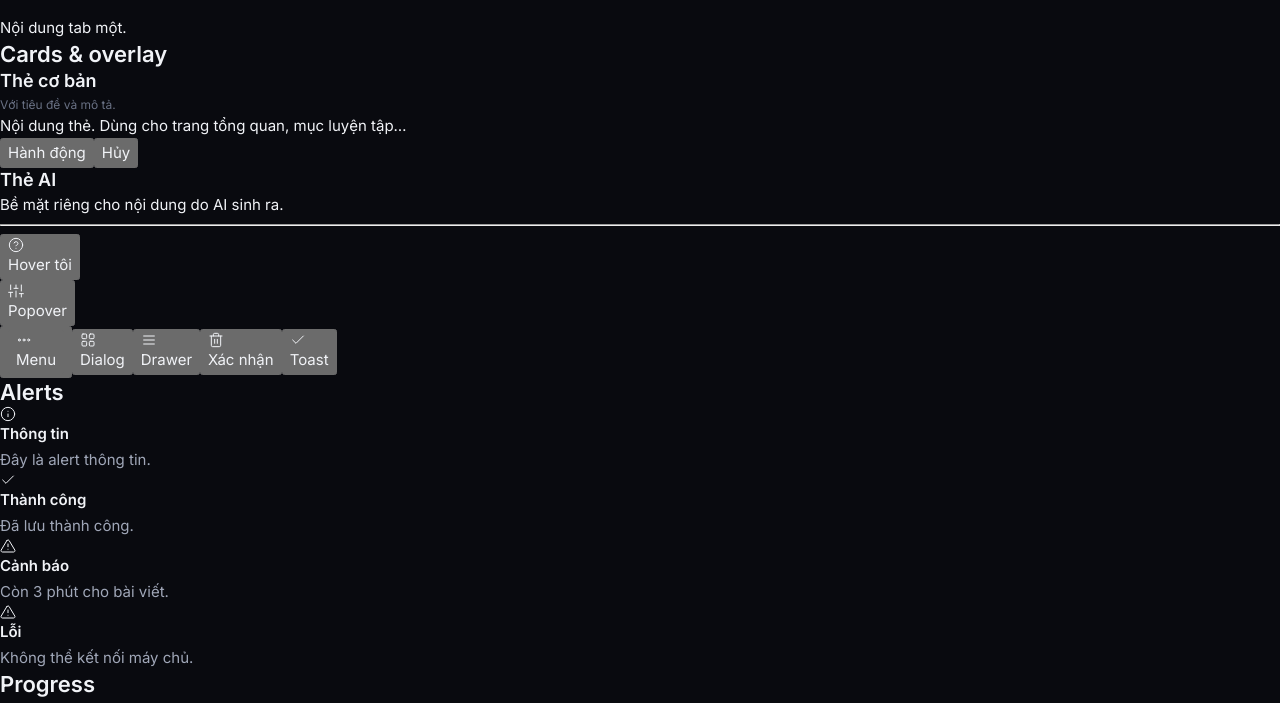
DesignSystemPage › opens and closes the sample dialog
(page scrolled)
Click the button "Dialog" at (102, 352), box [72, 329, 133, 375]
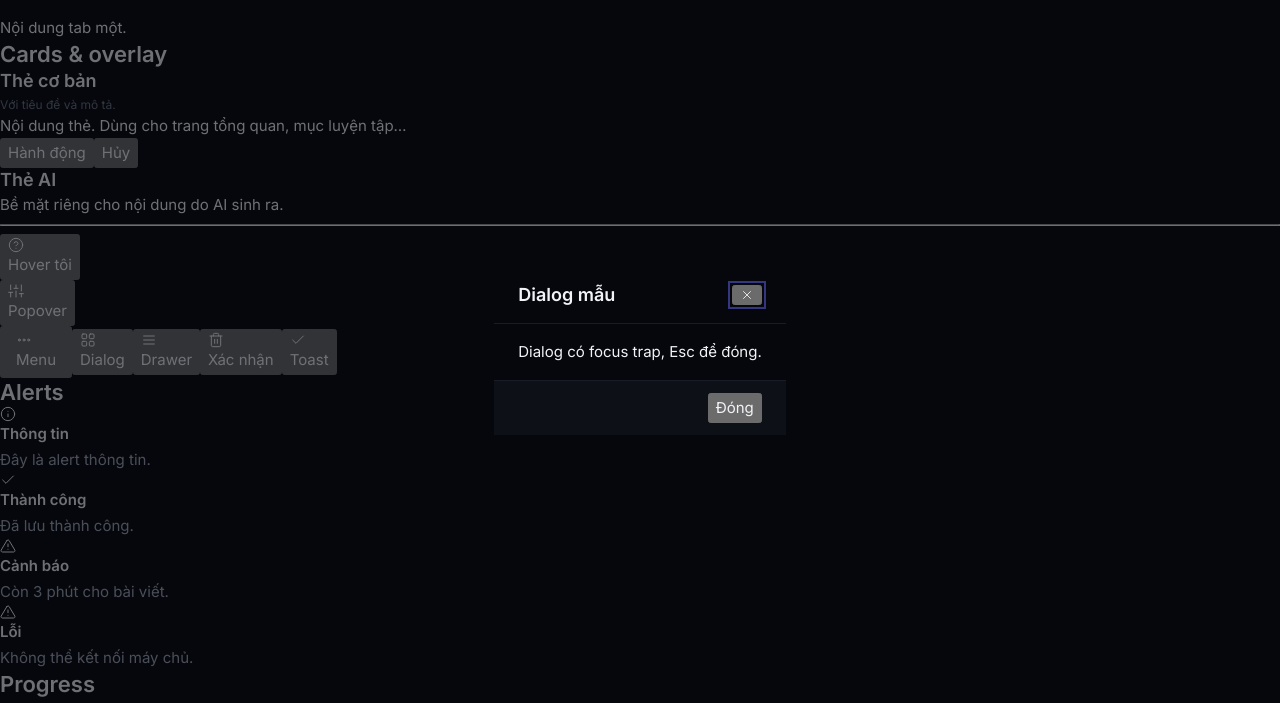
Expected: the dialog shows "Dialog mẫu", [518, 284, 615, 305]
Press Escape
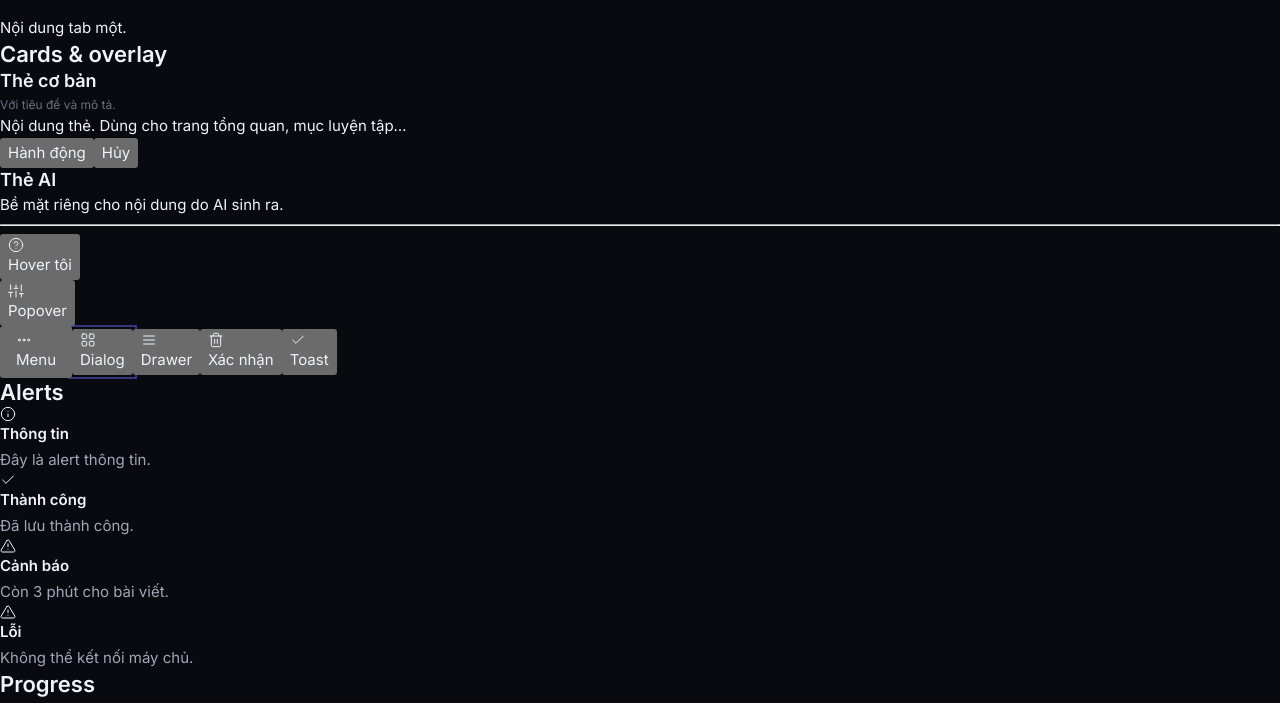
Expected: the dialog is gone
